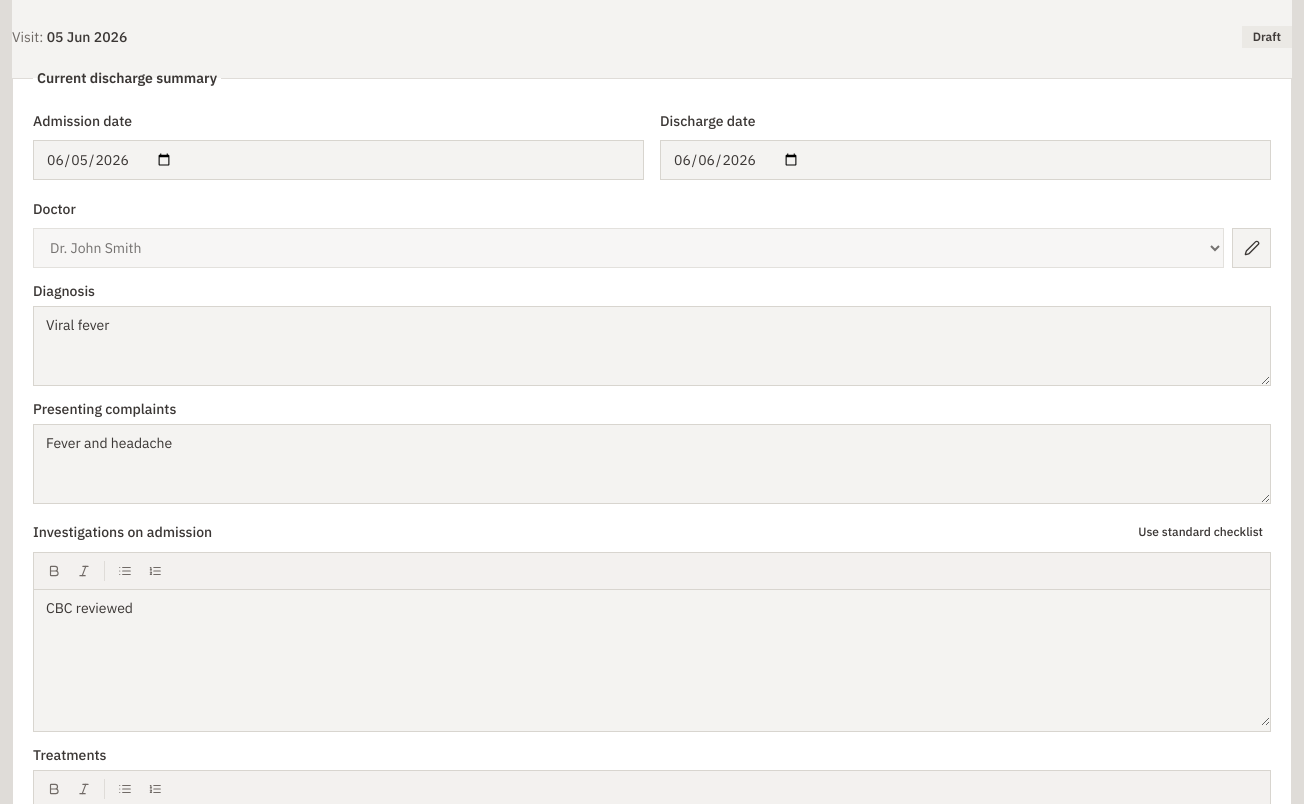
Test: DischargeSummaryTab › validates discharge date order
Type "2026-06-10" into the date field labelled "Admission date" at (338, 160), box [33,140,644,180]
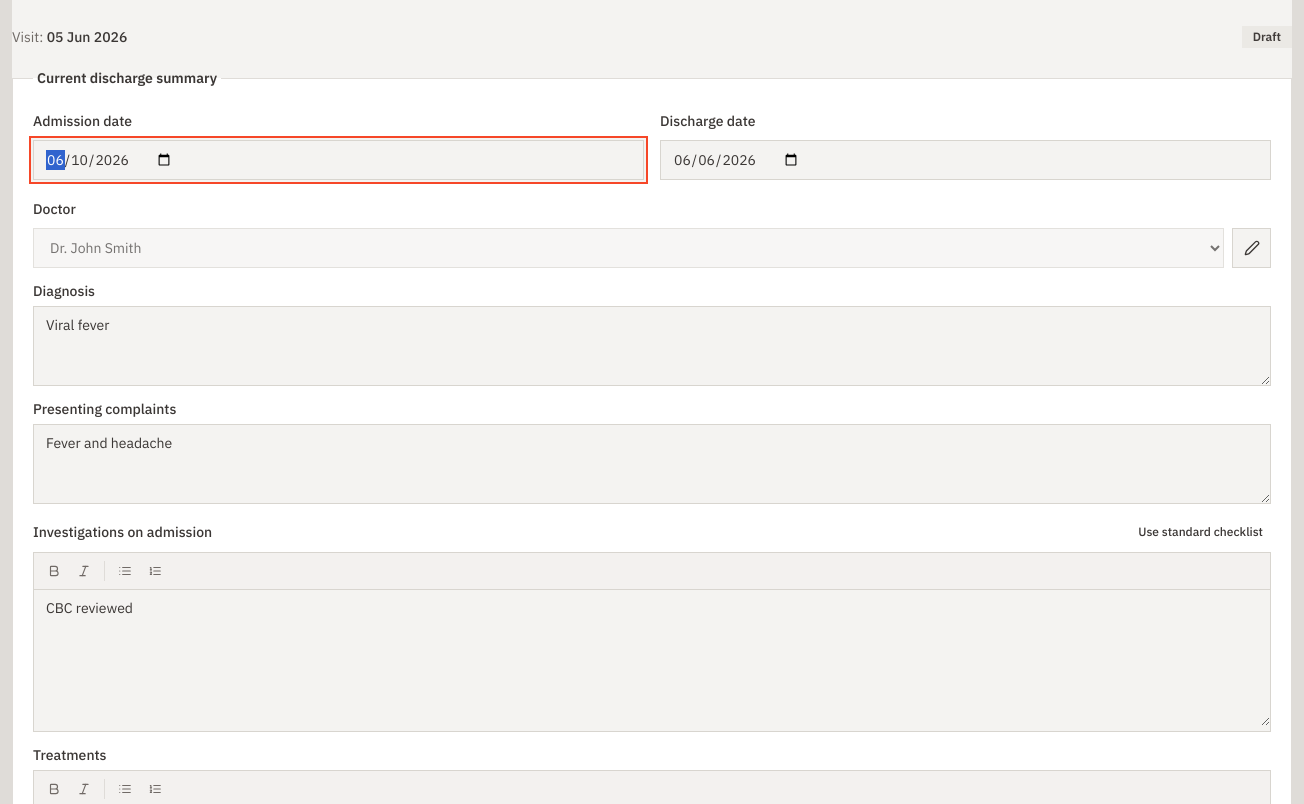
Type "2026-06-09" into the date field labelled "Discharge date" at (966, 160), box [660,140,1271,180]
(page scrolled)
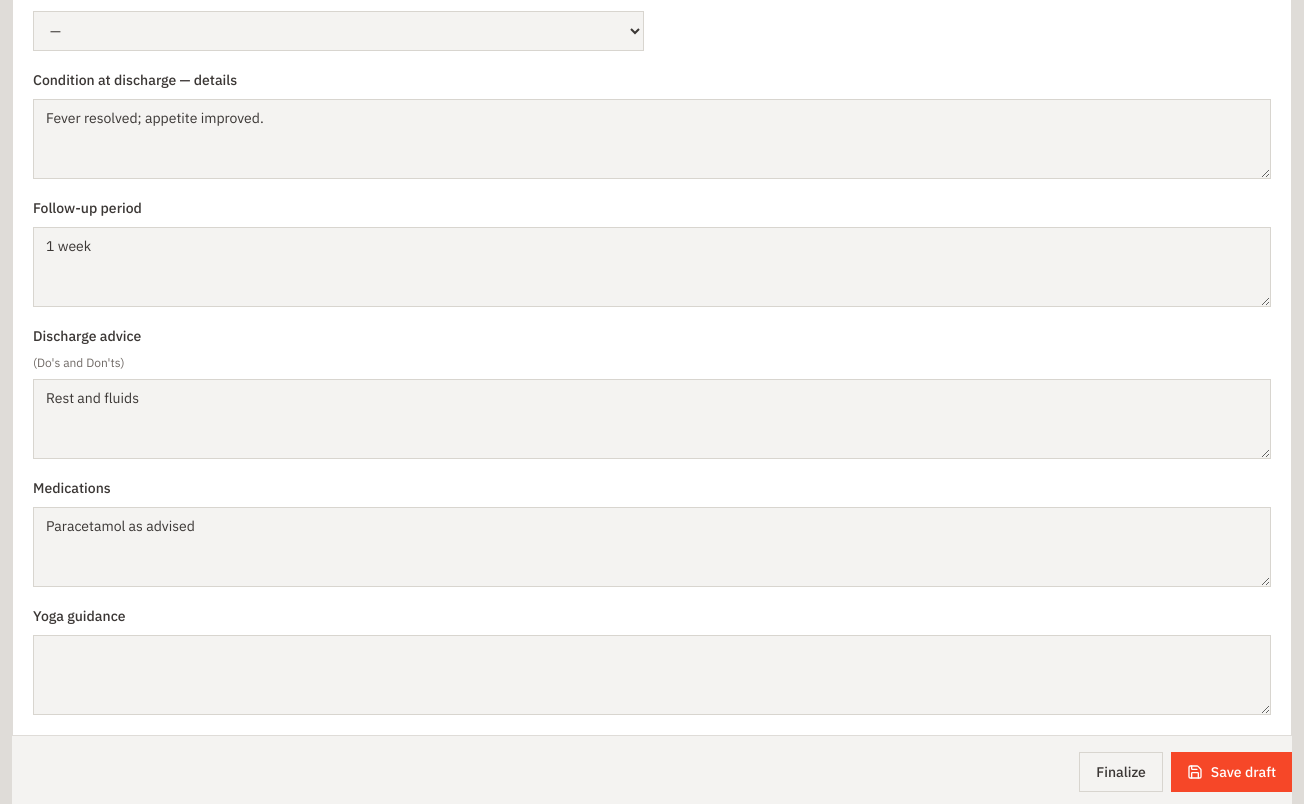
Click the button "Save draft" at (1231, 772), box [1171,752,1292,792]
(page scrolled)
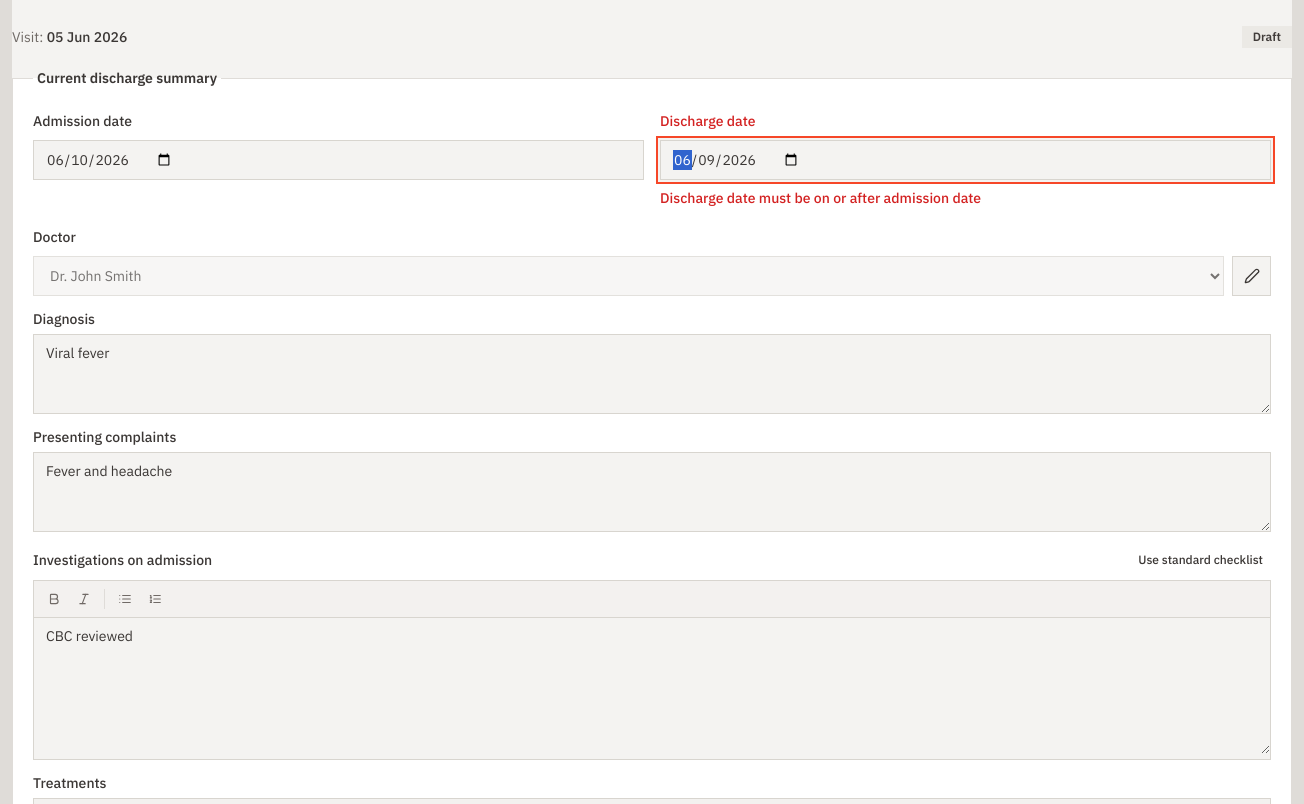
expect the text "Discharge date must be on or after admission date" is shown: met, box [660,189,981,207]
